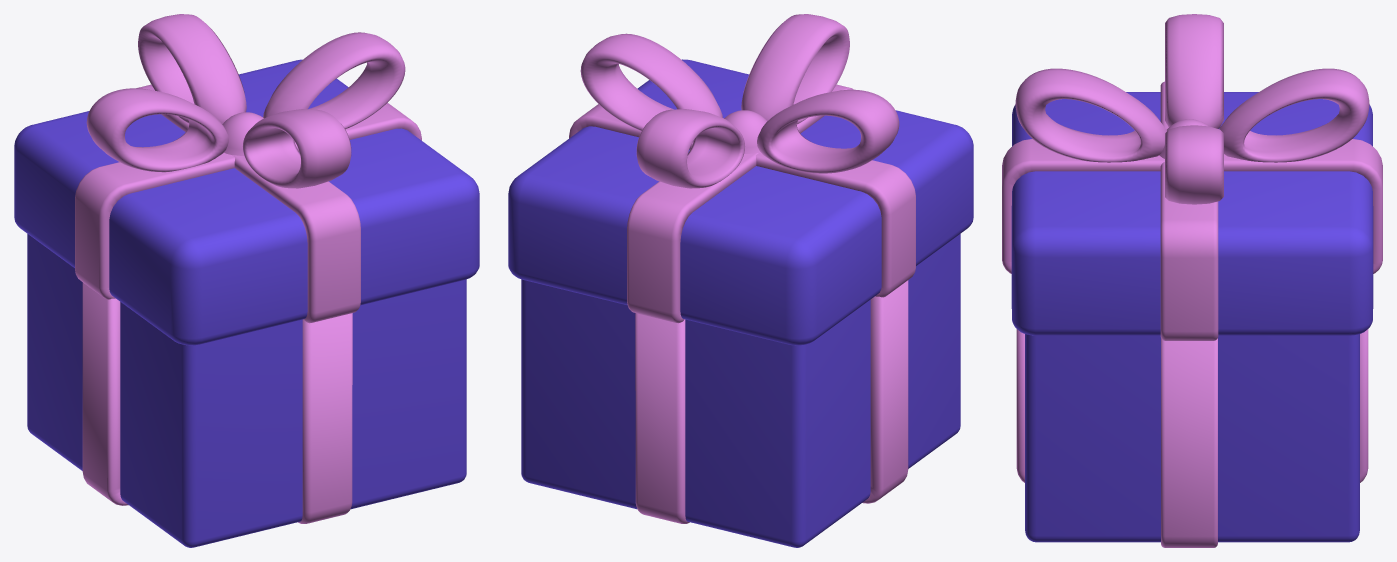
The model's file is gift.glb.
3 views of the same model, side by side, from view 1: azimuth 30°, elevation 25°; view 2: azimuth 150°, elevation 25°; view 3: azimuth 270°, elevation 25° (orthographic). The views are drawn at different scales.
Visible parts, largest first — view 1: Cube, Sphere; view 2: Cube, Sphere; view 3: Cube, Sphere.
Part boxes in pixels (x1,y1,x2,y2): Cube: (14,59,479,547); Sphere: (75,14,421,523); Cube: (508,59,973,547); Sphere: (569,14,915,523); Cube: (1011,92,1373,542); Sphere: (1002,14,1382,547).
Size of the model in its own units: 6.51 by 7.61 by 6.53.
